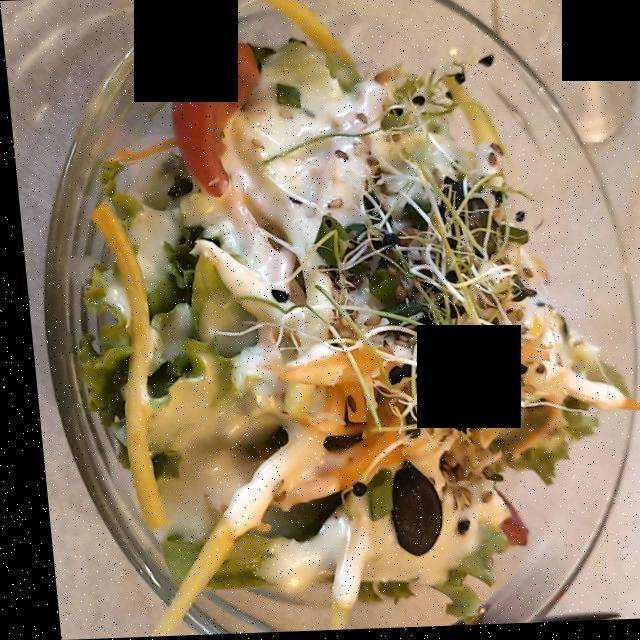pumpkin-seeds: (332, 429, 426, 571)
salad: (117, 44, 494, 594)
sprouts: (329, 165, 529, 457)
